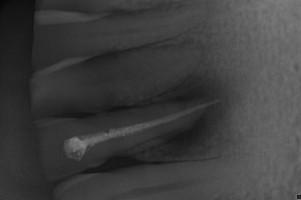Furcation Involvement: (150, 75, 242, 158)
